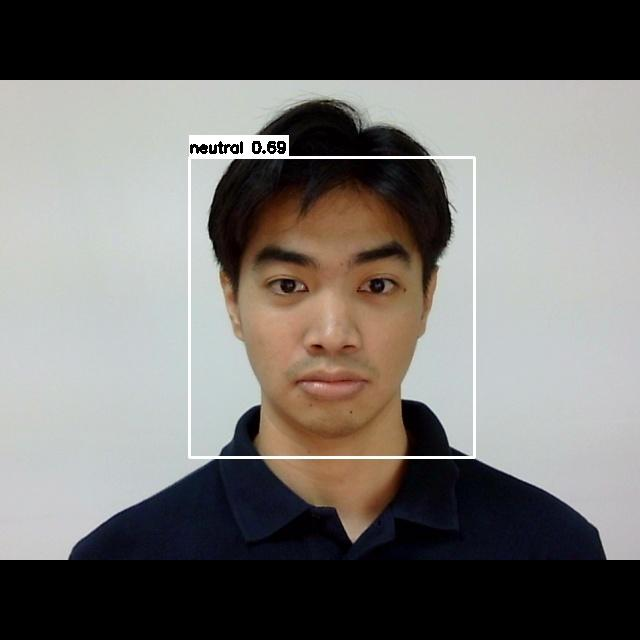Fear: (225, 210, 448, 439)
